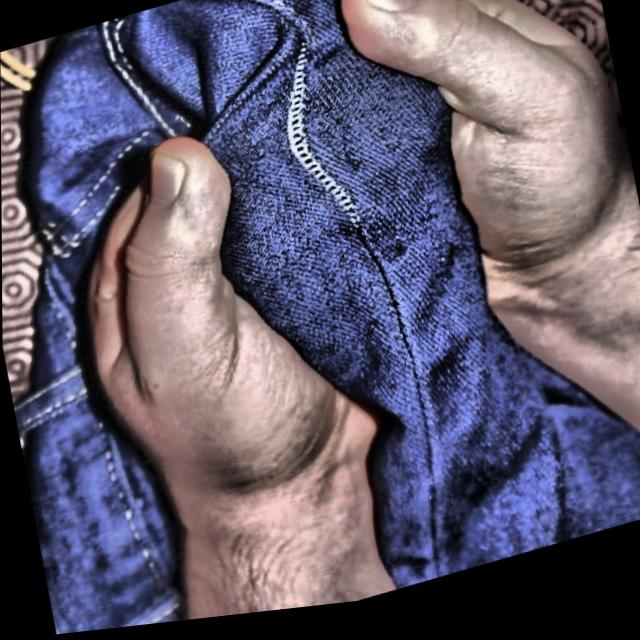seam: (218, 0, 378, 272)
